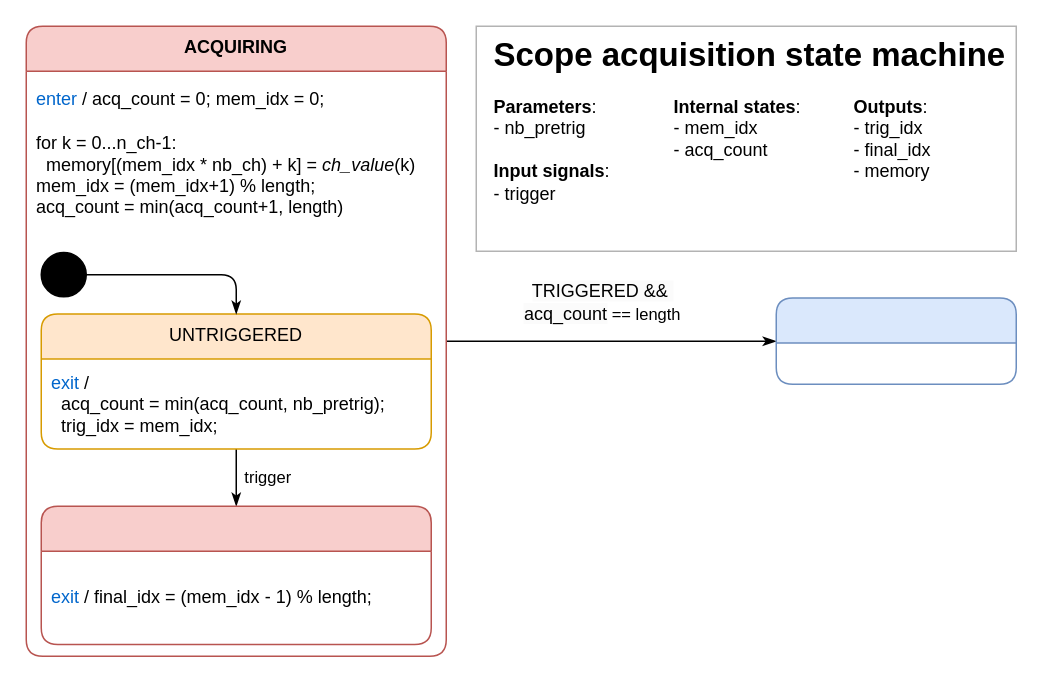
This 1043x683 diagram has some shape labels left out. Each missing label, with the box of its shape:
DONE: (775, 297, 1016, 384)
TRIGGERED: (40, 505, 431, 645)
